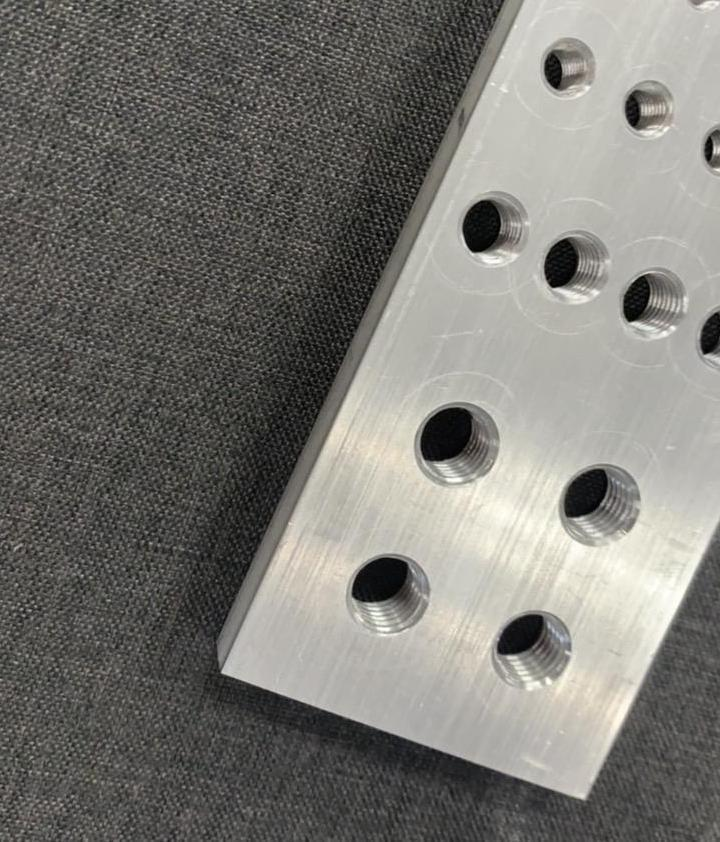hole: (555, 458, 651, 562), (412, 396, 510, 490), (344, 550, 434, 640), (485, 604, 574, 693), (540, 222, 622, 314), (613, 265, 695, 348), (456, 192, 534, 274), (616, 74, 682, 151), (531, 30, 603, 100), (692, 294, 720, 383), (691, 111, 720, 187), (683, 0, 720, 13)
